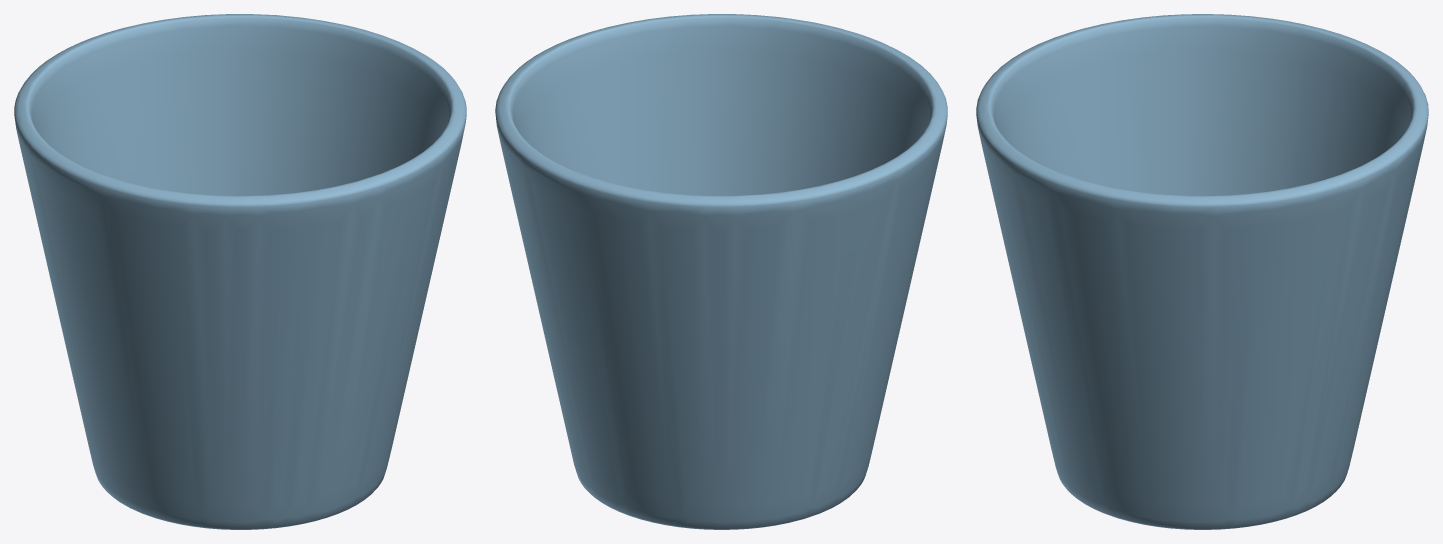
The model's file is Papelera.fbx.
3 views of the same model, side by side, from view 1: azimuth 30°, elevation 25°; view 2: azimuth 150°, elevation 25°; view 3: azimuth 270°, elevation 25° (orthographic).
Visible parts, largest first — view 1: Papelera.001; view 2: Papelera.001; view 3: Papelera.001.
Boxes of the visible parts, box(x1,y1,x2,y2) form: Papelera.001: box(14, 14, 466, 529); Papelera.001: box(495, 14, 947, 529); Papelera.001: box(976, 14, 1428, 529).
Size of the model in its own units: 4.31 by 3.83 by 4.31.
